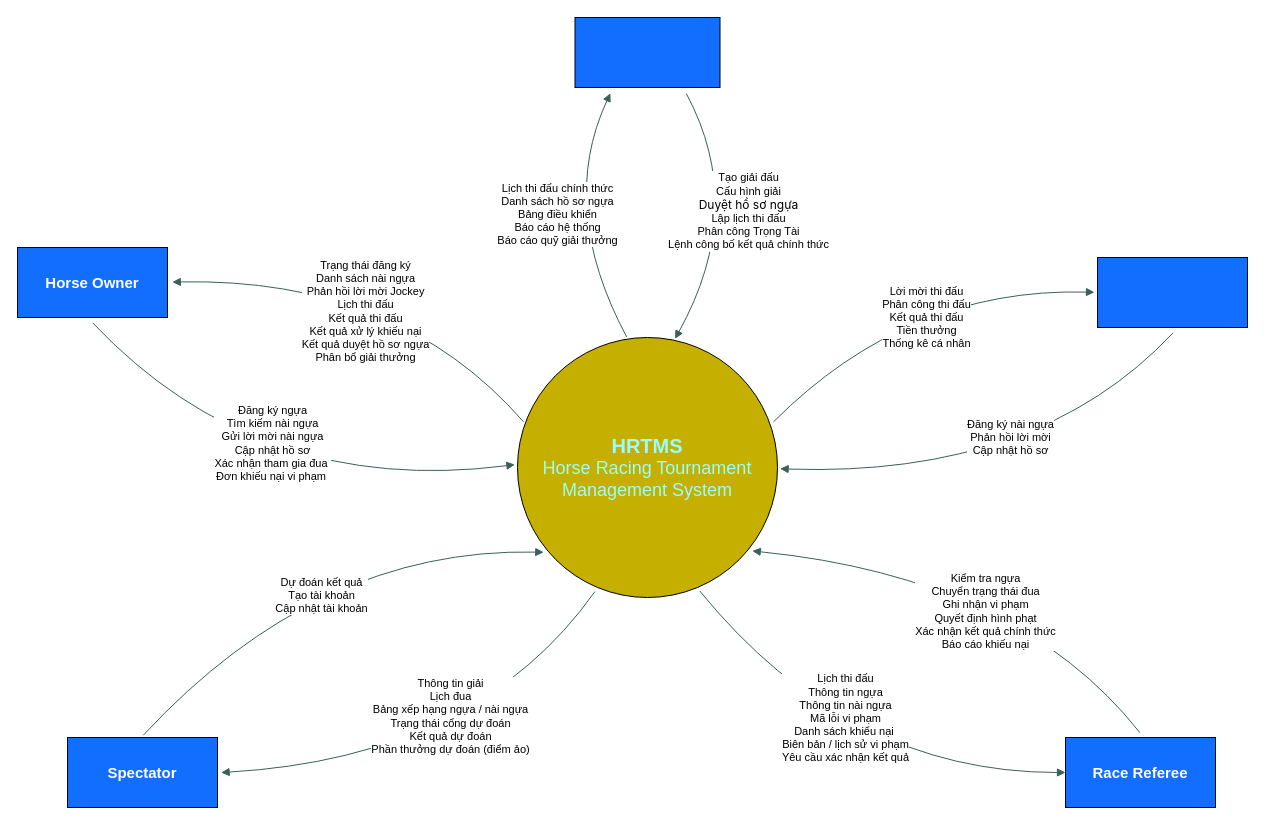
This 1265x825 diagram has some shape labels left out. The shapes that lost their labels are listed below. From the top down, each one's centre as x and y in pixels, then its label:
point (647, 52): Admin
point (1172, 292): Jockey
